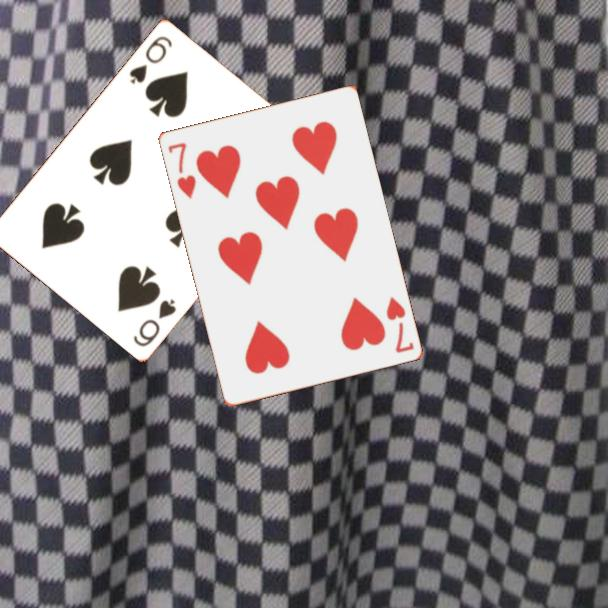h07: (164, 139, 198, 202), (382, 293, 416, 356)
s06: (125, 32, 175, 87), (130, 295, 179, 349)
